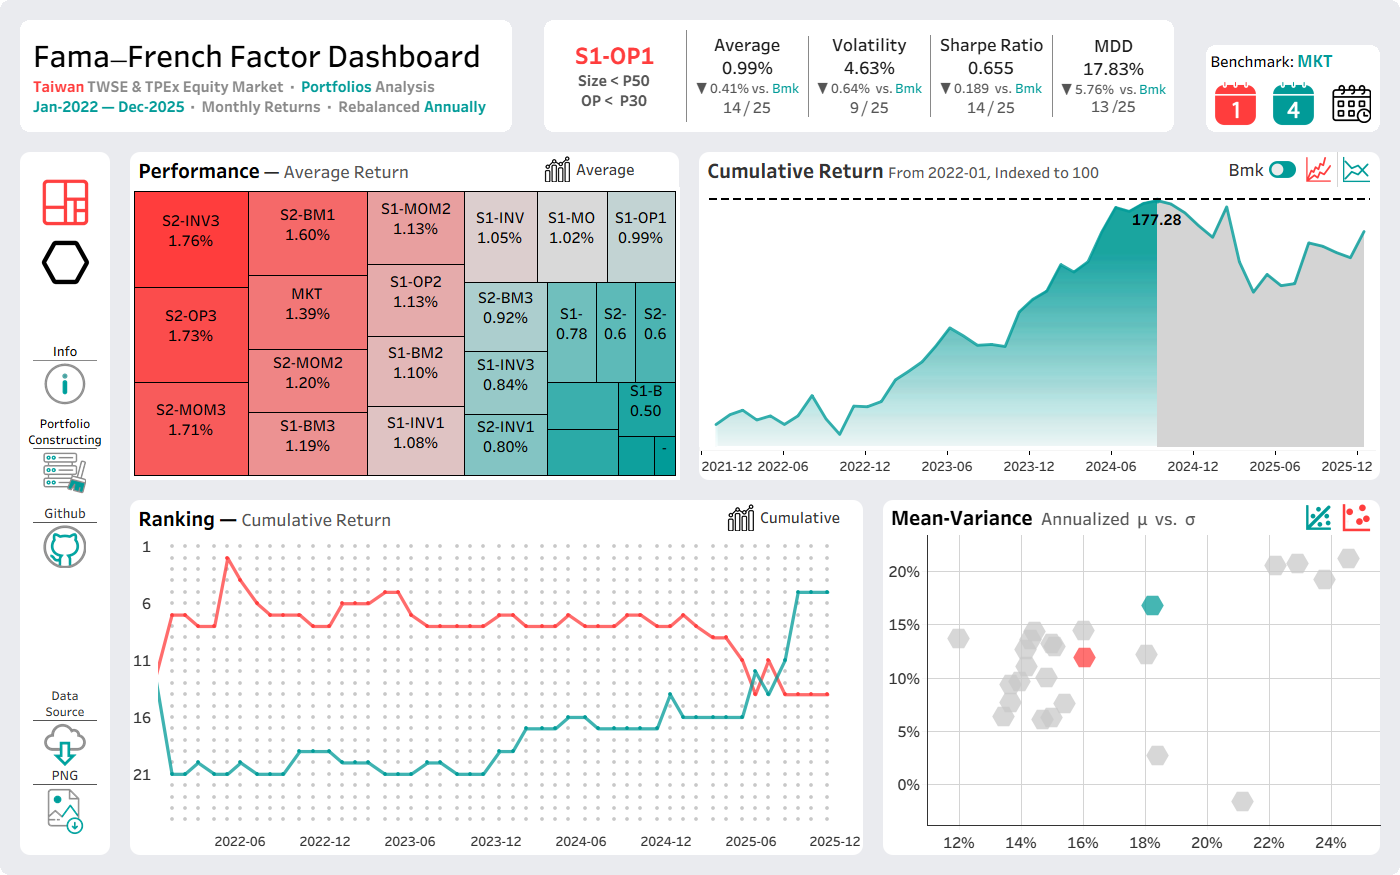

The page's visual inventory and layout, read from the dashboard file:
{"tool":"tableau","page":{"name":"Dashboard-portfolio","canvas":[1400,875],"ordinal":1},"visuals":[{"type":"worksheet","title":"DB_title_port","mark":"Shape","cols":["line_type"],"box":[20,20,492,112]},{"type":"blank","box":[512,20,32,112]},{"type":"worksheet","title":"ptf| portfolio","mark":"Shape","box":[544,20,142,112]},{"type":"blank","box":[686,20,1,112]},{"type":"worksheet","title":"ptf| KPI-avg","mark":"Shape","rows":["portfolio"],"box":[687,20,121,112]},{"type":"blank","box":[808,20,1,112]},{"type":"worksheet","title":"ptf| KPI-vol","mark":"Shape","rows":["portfolio"],"box":[809,20,121,112]},{"type":"blank","box":[930,20,1,112]},{"type":"worksheet","title":"ptf| sharpe","mark":"Shape","rows":["portfolio"],"box":[931,20,121,112]},{"type":"blank","box":[1052,20,1,112]},{"type":"worksheet","title":"ptf| MDD","mark":"Shape","rows":["month_date"],"box":[1053,20,121,80]},{"type":"blank","box":[1174,20,32,112]},{"type":"blank","box":[1206,20,174,25]},{"type":"text","box":[1206,45,174,30]},{"type":"worksheet","title":"rebalance type","mark":"Shape","cols":["rebalance"],"box":[1206,75,117,57]},{"type":"dashboard-object","box":[1323,75,57,57]},{"type":"worksheet","title":"ptf| MDD rank","mark":"Shape","rows":["month_date"],"cols":["portfolio"],"box":[1053,100,121,32]},{"type":"text","box":[1167,133,107,25]},{"type":"text","box":[1274,133,107,25]},{"type":"blank","box":[20,152,90,20]},{"type":"text","box":[130,152,378,35]},{"type":"blank","box":[508,152,32,35]},{"type":"image","param":"Image/metrics.png","box":[540,152,34,35]},{"type":"parameter","param":"[Parameters].[pm| monthly or cumulative （複製）_3228739764789248]","box":[574,152,105,35]},{"type":"text","box":[699,152,355,35]},{"type":"text","box":[699,152,411,35]},{"type":"parameter","param":"[Parameters].[參數 1]","box":[1054,152,40,35]},{"type":"blank","box":[1110,152,115,35]},{"type":"text","box":[1225,152,40,35]},{"type":"worksheet","title":"gradien toggle","mark":"Shape","box":[1265,152,35,35]},{"type":"worksheet","title":"line type","mark":"Shape","cols":["line_type"],"box":[1300,152,80,35]},{"type":"parameter","param":"[Parameters].[參數 2]","box":[1167,158,107,25]},{"type":"parameter","param":"[Parameters].[pm| start date （複製）_1420029702696969]","box":[1274,158,107,25]},{"type":"image","param":"Image/treemap_red.png","box":[20,172,90,60]},{"type":"text","box":[1167,183,214,20]},{"type":"worksheet","title":"ptf| treemap_avg","mark":"Automatic","rows":["month_date"],"box":[130,187,549,293]},{"type":"worksheet","title":"tptf| reemap_cumu","mark":"Square","rows":["month_date"],"box":[130,187,549,293]},{"type":"worksheet","title":"ptf| rolling gradien","mark":"Line","cols":["ftr| pm-avg>=MKT  lod （複製）_2159192513167360"],"box":[699,187,681,260]},{"type":"worksheet","title":"ptf| cumu gradien","mark":"Line","box":[699,187,681,260]},{"type":"worksheet","title":"ptf| rolling_avg","mark":"Automatic","cols":["month_date"],"box":[699,187,681,293]},{"type":"worksheet","title":"prf|cumu_ret","mark":"Automatic","cols":["month_date"],"box":[699,187,681,293]},{"type":"parameter","param":"[Parameters].[pm| portfolio （複製）_0802671879385088]","box":[1167,203,214,25]},{"type":"dashboard-object","box":[20,232,90,60]},{"type":"text","box":[130,280,1250,260]},{"type":"blank","box":[20,292,90,50]},{"type":"text","box":[20,342,90,18]},{"type":"blank","box":[20,360,90,1]},{"type":"dashboard-object","box":[20,361,90,45]},{"type":"blank","box":[20,406,90,10]},{"type":"text","box":[20,416,90,32]},{"type":"worksheet","title":"date_axis","mark":"Polygon","cols":["month_date"],"box":[699,447,681,33]},{"type":"blank","box":[20,448,90,1]},{"type":"image","param":"Image/data-cleaning.png","box":[20,449,90,45]},{"type":"blank","box":[20,494,90,10]},{"type":"text","box":[130,500,441,35]},{"type":"blank","box":[571,500,152,35]},{"type":"image","param":"Image/metrics.png","box":[723,500,35,35]},{"type":"parameter","param":"[Parameters].[參數 9]","box":[758,500,105,35]},{"type":"worksheet","title":"ptf| dot title","mark":"Shape","box":[883,500,385,35]},{"type":"blank","box":[1268,500,32,35]},{"type":"worksheet","title":"ptf| dot type","mark":"Shape","cols":["dot_type"],"box":[1300,500,80,35]},{"type":"text","box":[20,504,90,18]},{"type":"blank","box":[20,522,90,1]},{"type":"image","param":"Image/github.png","box":[20,523,90,45]},{"type":"worksheet","title":"ptf| bump chart","mark":"Shape","rows":["ptf| ptf lod rank （複製）_2921970274308096"],"cols":["month_date"],"box":[130,535,733,320]},{"type":"worksheet","title":"ptf| M_V dot","mark":"Automatic","rows":["ptf| portfolio avg return （複製）_2056379085037574"],"cols":["ptf| portfolio ret avg （複製）_2056379085115399"],"box":[883,535,497,320]},{"type":"worksheet","title":"ptf| MKT&ptf_dot","mark":"Automatic","rows":["Calculation_1435714367660033"],"cols":["ptf| pm-pft ret （複製）_0609971591626753"],"box":[883,535,497,320]},{"type":"blank","box":[20,568,90,120]},{"type":"text","box":[20,688,90,32]},{"type":"blank","box":[20,720,90,1]},{"type":"image","param":"Image/arrow.png","box":[20,721,90,45]},{"type":"text","box":[20,766,90,18]},{"type":"blank","box":[20,784,90,1]},{"type":"dashboard-object","box":[20,785,90,50]},{"type":"blank","box":[20,835,90,20]}]}

Visuals, with their boxes in screenshot pixels (x1, y1, x2, y2), scaled from the page's 1400x875 canvas onto the 1400x875 screenshot:
"DB_title_port" worksheet (Shape marks): box(20, 20, 512, 132)
blank: box(512, 20, 544, 132)
"ptf| portfolio" worksheet (Shape marks): box(544, 20, 686, 132)
blank: box(686, 20, 687, 132)
"ptf| KPI-avg" worksheet (Shape marks): box(687, 20, 808, 132)
blank: box(808, 20, 809, 132)
"ptf| KPI-vol" worksheet (Shape marks): box(809, 20, 930, 132)
blank: box(930, 20, 931, 132)
"ptf| sharpe" worksheet (Shape marks): box(931, 20, 1052, 132)
blank: box(1052, 20, 1053, 132)
"ptf| MDD" worksheet (Shape marks): box(1053, 20, 1174, 100)
blank: box(1174, 20, 1206, 132)
blank: box(1206, 20, 1380, 45)
text: box(1206, 45, 1380, 75)
"rebalance type" worksheet (Shape marks): box(1206, 75, 1323, 132)
dashboard-object: box(1323, 75, 1380, 132)
"ptf| MDD rank" worksheet (Shape marks): box(1053, 100, 1174, 132)
text: box(1167, 133, 1274, 158)
text: box(1274, 133, 1381, 158)
blank: box(20, 152, 110, 172)
text: box(130, 152, 508, 187)
blank: box(508, 152, 540, 187)
image: box(540, 152, 574, 187)
parameter: box(574, 152, 679, 187)
text: box(699, 152, 1054, 187)
text: box(699, 152, 1110, 187)
parameter: box(1054, 152, 1094, 187)
blank: box(1110, 152, 1225, 187)
text: box(1225, 152, 1265, 187)
"gradien toggle" worksheet (Shape marks): box(1265, 152, 1300, 187)
"line type" worksheet (Shape marks): box(1300, 152, 1380, 187)
parameter: box(1167, 158, 1274, 183)
parameter: box(1274, 158, 1381, 183)
image: box(20, 172, 110, 232)
text: box(1167, 183, 1381, 203)
"ptf| treemap_avg" worksheet: box(130, 187, 679, 480)
"tptf| reemap_cumu" worksheet (Square marks): box(130, 187, 679, 480)
"ptf| rolling gradien" worksheet (Line marks): box(699, 187, 1380, 447)
"ptf| cumu gradien" worksheet (Line marks): box(699, 187, 1380, 447)
"ptf| rolling_avg" worksheet: box(699, 187, 1380, 480)
"prf|cumu_ret" worksheet: box(699, 187, 1380, 480)
parameter: box(1167, 203, 1381, 228)
dashboard-object: box(20, 232, 110, 292)
text: box(130, 280, 1380, 540)
blank: box(20, 292, 110, 342)
text: box(20, 342, 110, 360)
blank: box(20, 360, 110, 361)
dashboard-object: box(20, 361, 110, 406)
blank: box(20, 406, 110, 416)
text: box(20, 416, 110, 448)
"date_axis" worksheet (Polygon marks): box(699, 447, 1380, 480)
blank: box(20, 448, 110, 449)
image: box(20, 449, 110, 494)
blank: box(20, 494, 110, 504)
text: box(130, 500, 571, 535)
blank: box(571, 500, 723, 535)
image: box(723, 500, 758, 535)
parameter: box(758, 500, 863, 535)
"ptf| dot title" worksheet (Shape marks): box(883, 500, 1268, 535)
blank: box(1268, 500, 1300, 535)
"ptf| dot type" worksheet (Shape marks): box(1300, 500, 1380, 535)
text: box(20, 504, 110, 522)
blank: box(20, 522, 110, 523)
image: box(20, 523, 110, 568)
"ptf| bump chart" worksheet (Shape marks): box(130, 535, 863, 855)
"ptf| M_V dot" worksheet: box(883, 535, 1380, 855)
"ptf| MKT&ptf_dot" worksheet: box(883, 535, 1380, 855)
blank: box(20, 568, 110, 688)
text: box(20, 688, 110, 720)
blank: box(20, 720, 110, 721)
image: box(20, 721, 110, 766)
text: box(20, 766, 110, 784)
blank: box(20, 784, 110, 785)
dashboard-object: box(20, 785, 110, 835)
blank: box(20, 835, 110, 855)
